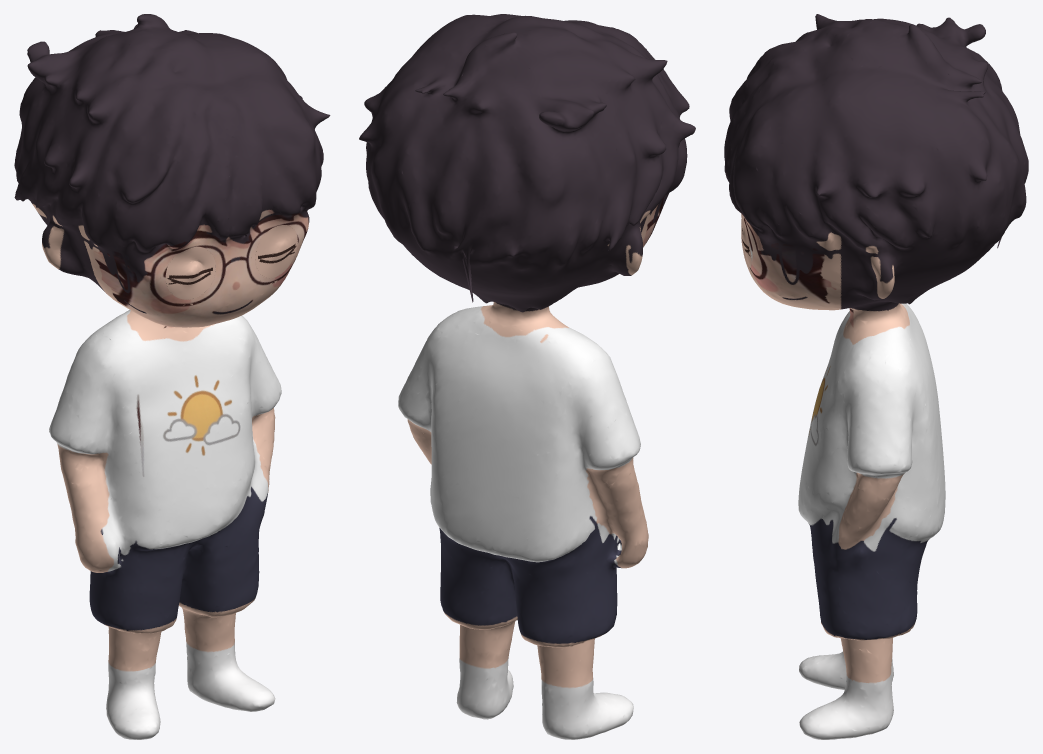
The model's file is shuaishuai.glb.
3 renders of one model, left to right at view 1: azimuth 30°, elevation 25°; view 2: azimuth 150°, elevation 25°; view 3: azimuth 270°, elevation 25°, orthographic. The views are drawn at different scales.
Visible parts, largest first — view 1: body, lid_half, lid_closed; view 2: body; view 3: body.
Part boxes in pixels (box(x1,y1,x2,y2)): body: box(14, 14, 330, 739); lid_half: box(159, 225, 301, 305); lid_closed: box(160, 221, 301, 299); body: box(359, 14, 695, 739); body: box(724, 14, 1028, 739).
Bounding box in the file's own units: 0.4913 × 1.2 × 0.4871.
3 materials, 3 textured.
